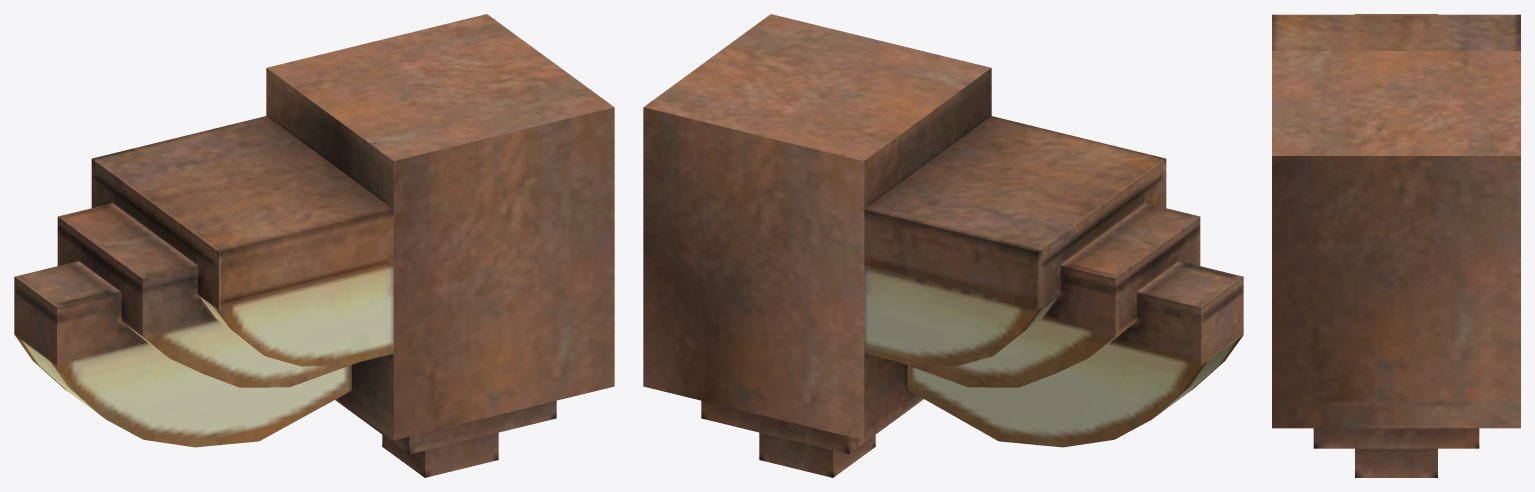
File: Light_Wall_02.obj
3 renders of one model, left to right at view 1: azimuth 30°, elevation 25°; view 2: azimuth 150°, elevation 25°; view 3: azimuth 270°, elevation 25°, orthographic. The views are drawn at different scales.
Parts seen in each view (by area): view 1: Light_Wall_02; view 2: Light_Wall_02; view 3: Light_Wall_02.
Boxes of the visible parts, x1,y1,x2,y2 form: Light_Wall_02: (14, 14, 614, 477); Light_Wall_02: (643, 14, 1243, 477); Light_Wall_02: (1272, 14, 1520, 477).
Size of the model in its own units: 56 by 38 by 24.
1 material, 1 textured.
